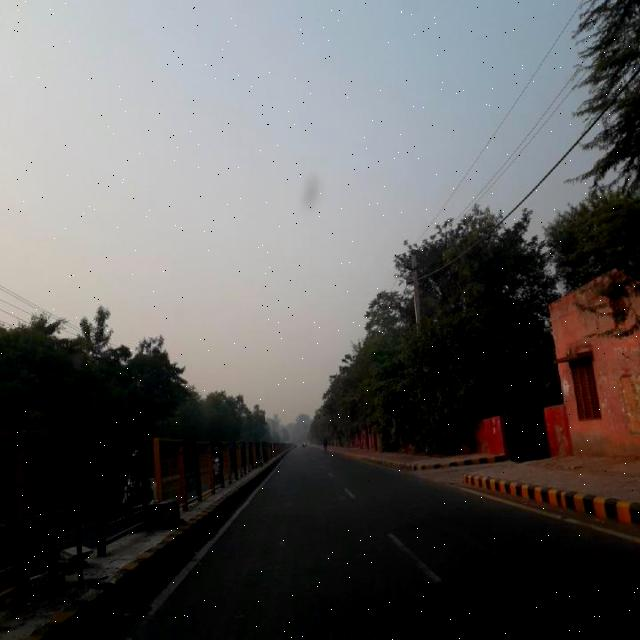D44: (382, 530, 449, 581)
